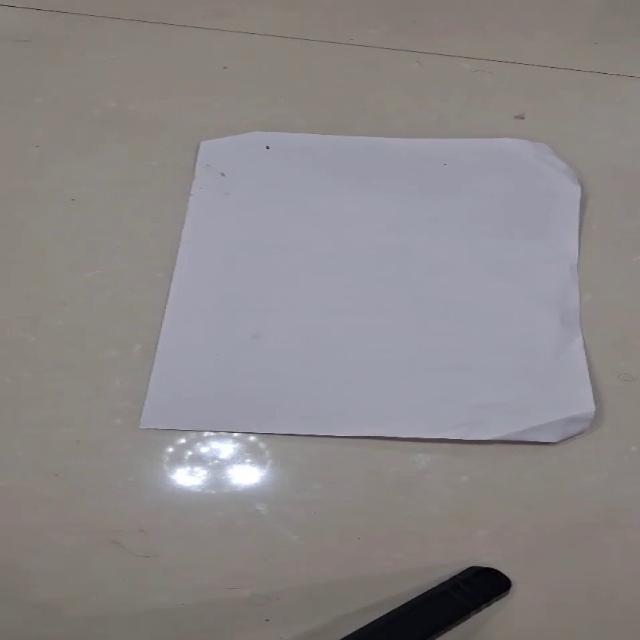paper: (138, 130, 597, 443)
